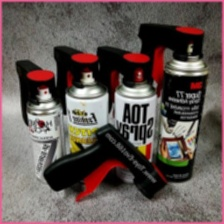aerosol_cans: (152, 41, 213, 186), (111, 66, 158, 187), (63, 69, 111, 178), (25, 82, 70, 186)
